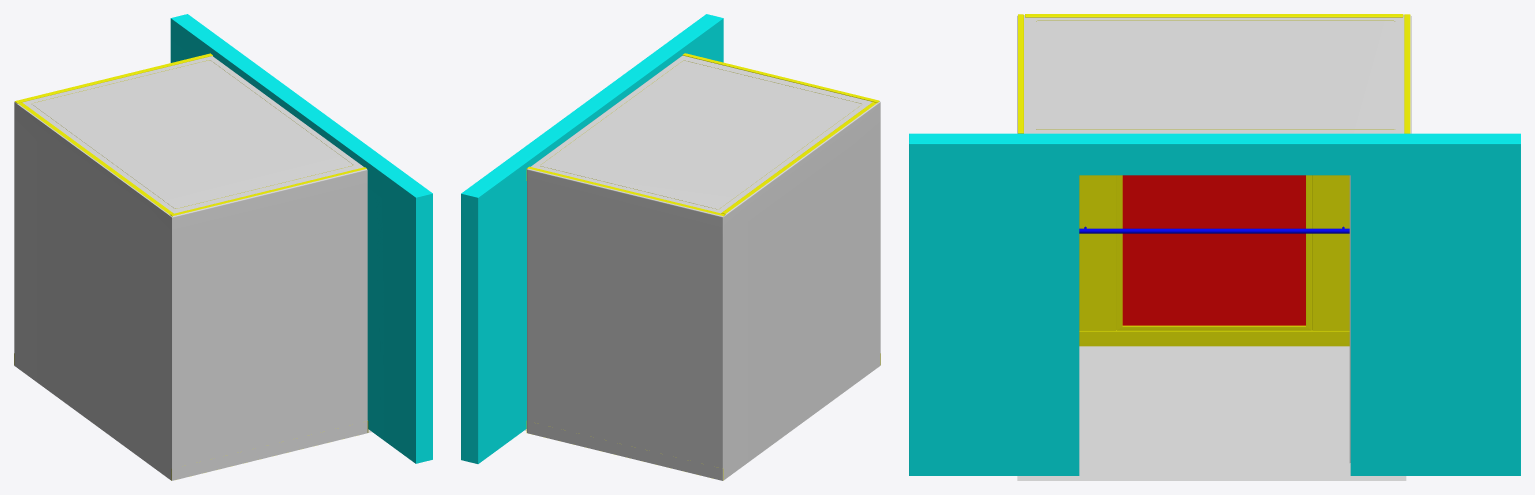
Rendered from ElevatorBox.fbx.
3 renders of one model, left to right at view 1: azimuth 30°, elevation 25°; view 2: azimuth 150°, elevation 25°; view 3: azimuth 270°, elevation 25°, orthographic. The views are drawn at different scales.
Visible parts, largest first — view 1: ElevatorBox_GEO; view 2: ElevatorBox_GEO; view 3: ElevatorBox_GEO.
Part boxes in pixels (x1,y1,x2,y2): ElevatorBox_GEO: (14,14,432,480); ElevatorBox_GEO: (461,14,880,480); ElevatorBox_GEO: (909,14,1520,480).
Bounding box in the file's own units: 235 × 265 × 443.
